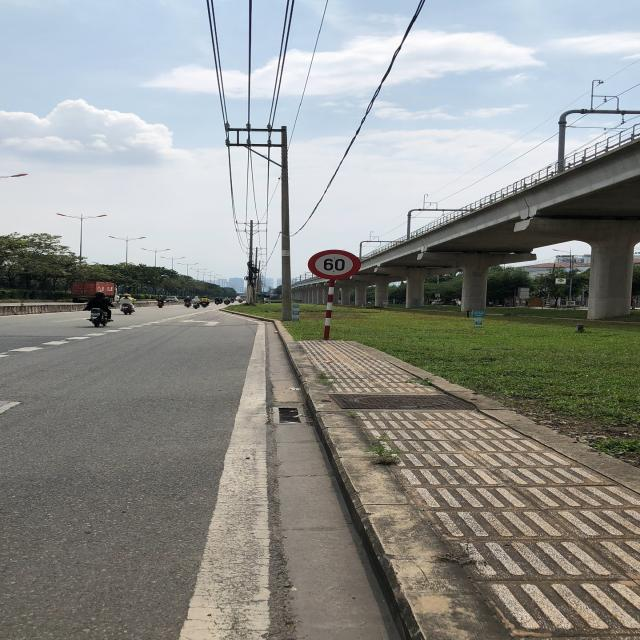Bien bao toc do toi da cho phep: (308, 248, 360, 278)
